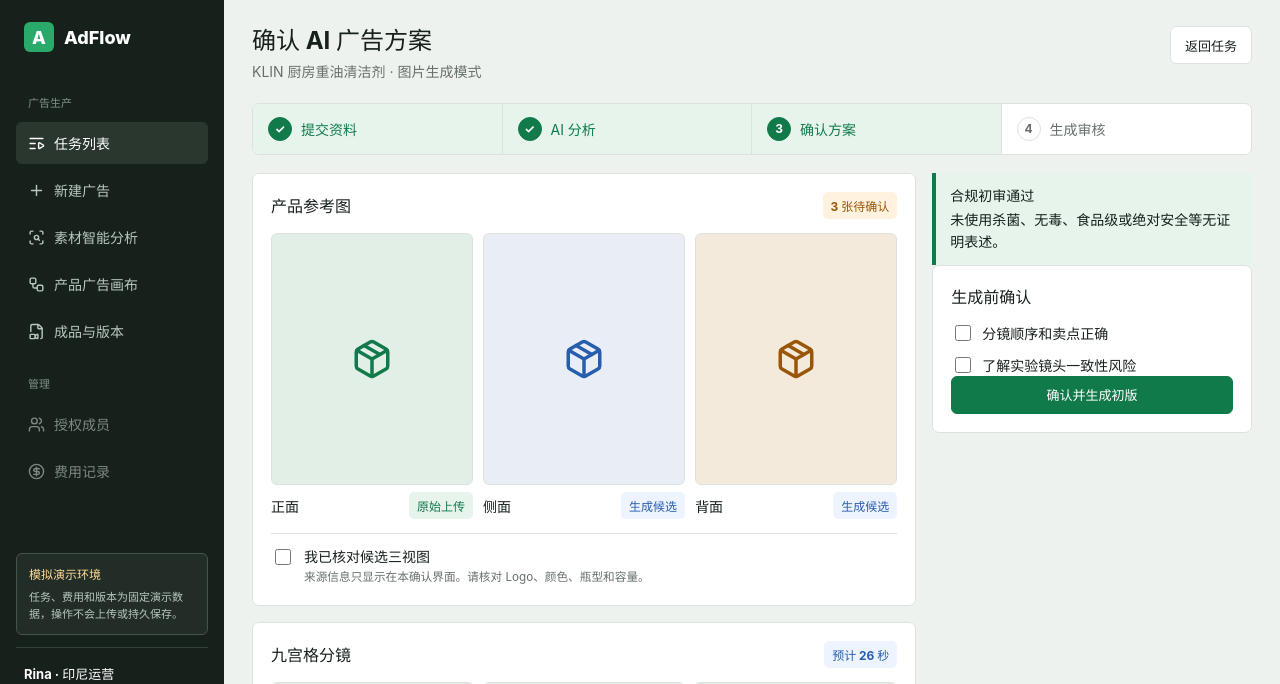
it: AppRouter › opens the matching task review after generation approval
Click the checkbox labelled "我已核对候选三视图 来源信息只显示在本确认界面。请核对 Logo、颜色、瓶型和容量。" at coordinates (283, 557), box [275,549,291,565]
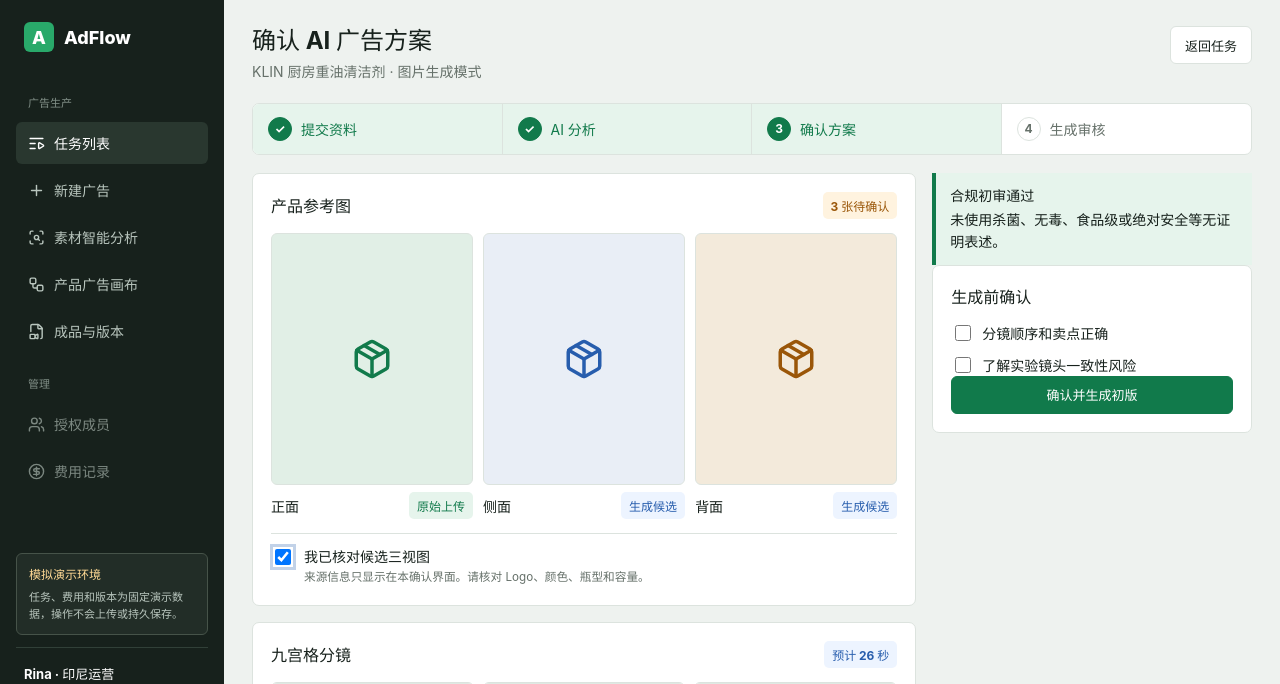
Click the checkbox labelled "分镜顺序和卖点正确" at coordinates (963, 333), box [955,325,971,341]
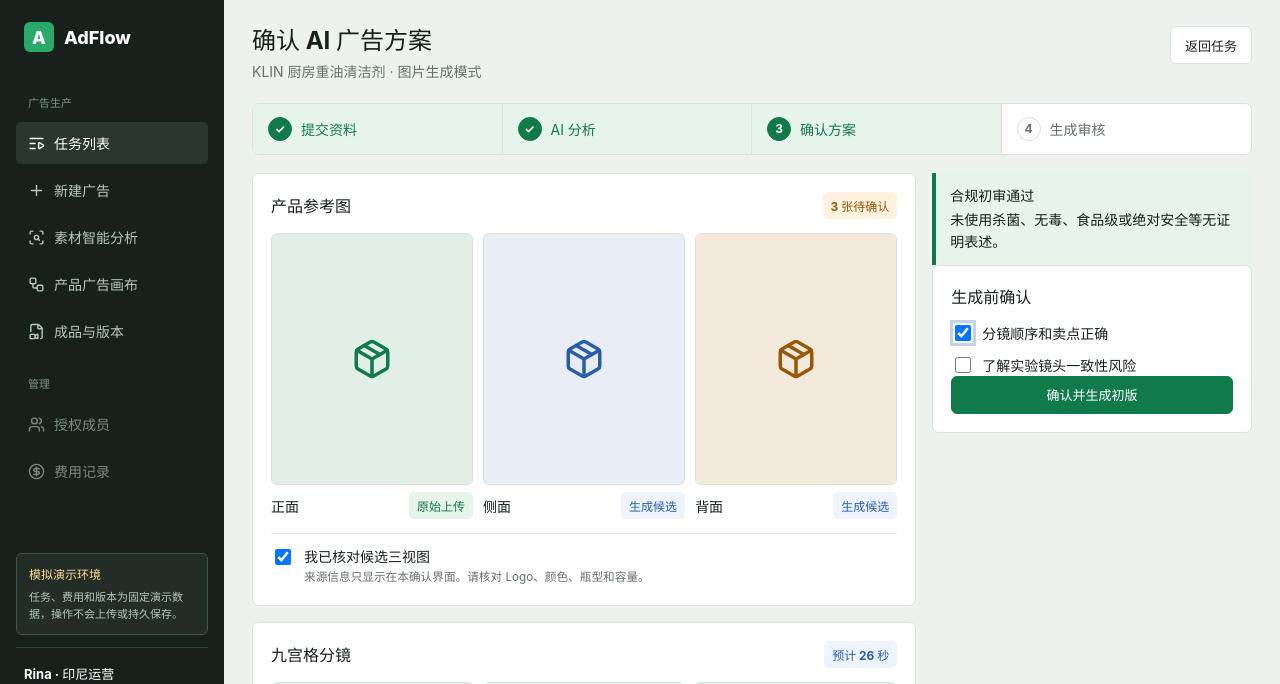
Click the checkbox labelled "了解实验镜头一致性风险" at coordinates (963, 365), box [955,357,971,373]
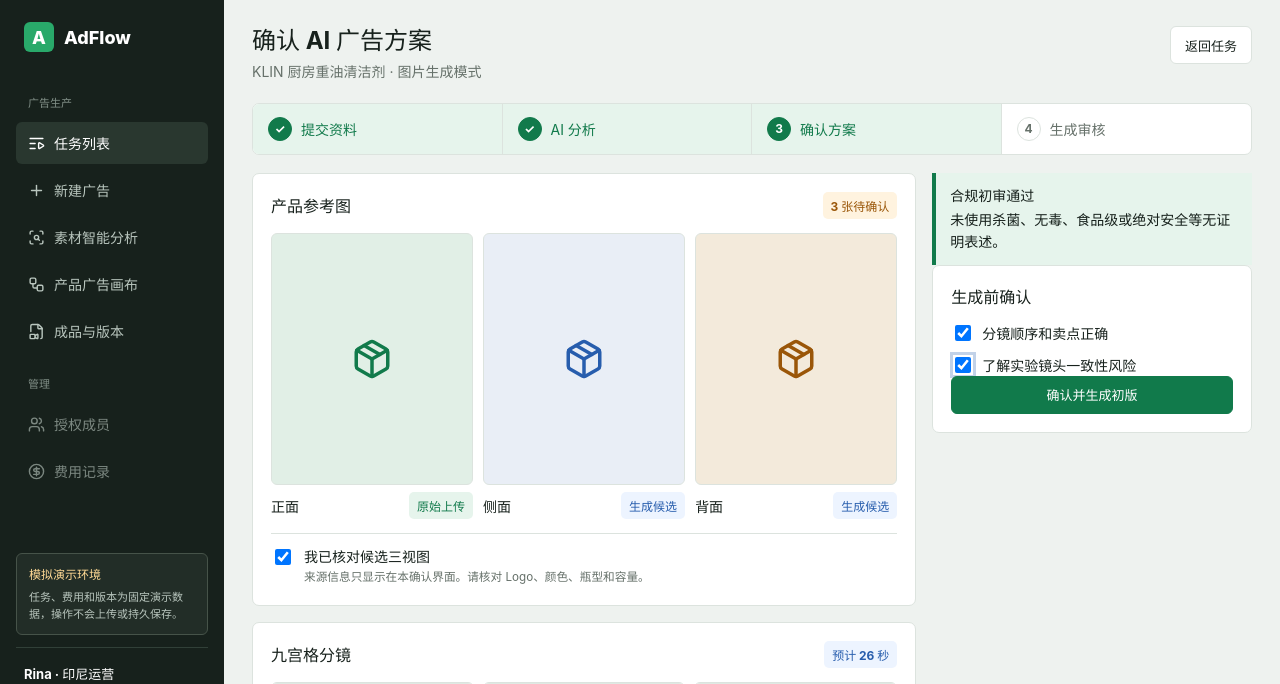
Click the button "确认并生成初版" at coordinates (1092, 395), box [951,376,1233,414]
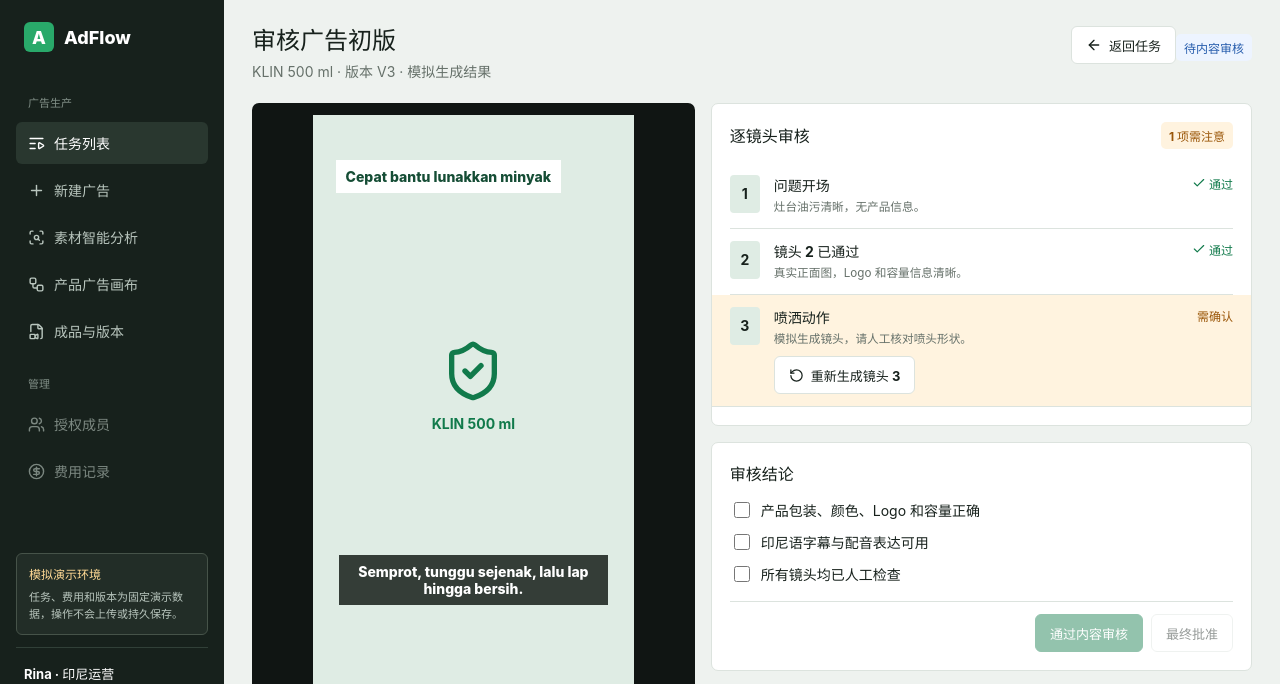
Expected: the heading "审核广告初版" is shown, [252,26,396,55]
